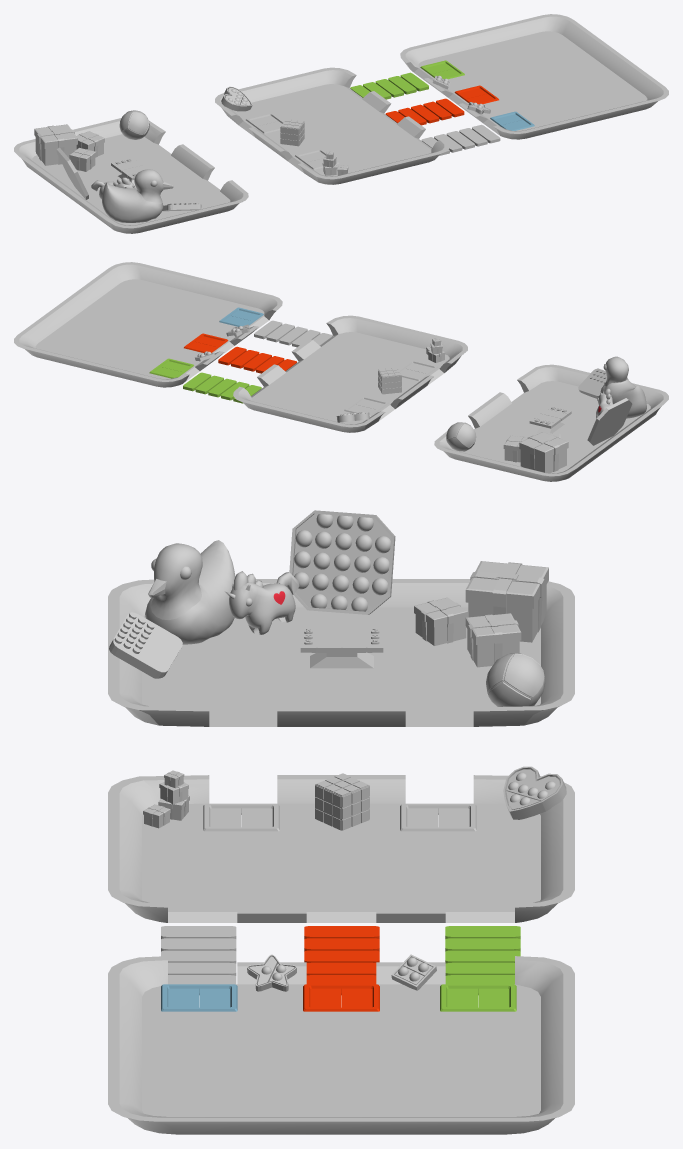
The model's file is plat.fbx.
3 renders of one model, top to bottom at view 1: azimuth 30°, elevation 25°; view 2: azimuth 150°, elevation 25°; view 3: azimuth 270°, elevation 25°, orthographic. The views are drawn at different scales.
Visible parts, largest first — view 1: Platform1, Platform2, Platform3, Ordek.001, Cube.004, Cube.006, Kup.001, KalpOyuncak.001, YumusakKareOyuncak.001, Cube.003, Cube.005, Masa (+1 smaller); view 2: Platform1, Platform2, Platform3, Cube.004, Ordek.001, YumusakKareOyuncak.001, Cube.006, Masa, Kup.001, Cube.011, Cube.005; view 3: Platform1, Platform2, Platform3, YumusakKareOyuncak.001, Ordek.001, Cube.004, Unicorn.001, Cube.011, Masa, Cube.006, Kup.001, KalpOyuncak.001 (+21 smaller).
Part boxes in pixels (x1,y1,x2,y2): Platform1: [400, 14, 668, 139]; Platform2: [215, 67, 449, 184]; Platform3: [14, 118, 248, 233]; Ordek.001: [102, 169, 173, 222]; Cube.004: [34, 124, 77, 165]; Cube.006: [119, 110, 149, 139]; Kup.001: [280, 118, 304, 146]; KalpOyuncak.001: [221, 86, 252, 111]; YumusakKareOyuncak.001: [56, 147, 88, 199]; Cube.003: [69, 147, 96, 171]; Cube.005: [76, 131, 104, 157]; Masa: [111, 158, 147, 187]; Platform1: [14, 262, 282, 387]; Platform2: [233, 315, 467, 432]; Platform3: [434, 364, 668, 481]; Cube.004: [519, 432, 568, 473]; Ordek.001: [600, 356, 646, 418]; YumusakKareOyuncak.001: [587, 398, 632, 445]; Cube.006: [446, 422, 476, 451]; Masa: [529, 406, 571, 433]; Kup.001: [378, 367, 401, 394]; Cube.011: [578, 368, 606, 398]; Cube.005: [503, 435, 527, 462]; Platform1: [108, 956, 574, 1134]; Platform2: [108, 775, 574, 922]; Platform3: [108, 579, 574, 726]; YumusakKareOyuncak.001: [289, 510, 395, 614]; Ordek.001: [145, 540, 235, 644]; Cube.004: [465, 561, 548, 642]; Unicorn.001: [225, 571, 299, 634]; Cube.011: [109, 612, 182, 678]; Masa: [300, 627, 383, 668]; Cube.006: [486, 653, 545, 706]; Kup.001: [315, 773, 369, 830]; KalpOyuncak.001: [503, 766, 566, 819].
Bounding box in the file's own units: 3431 × 309 × 1242.
